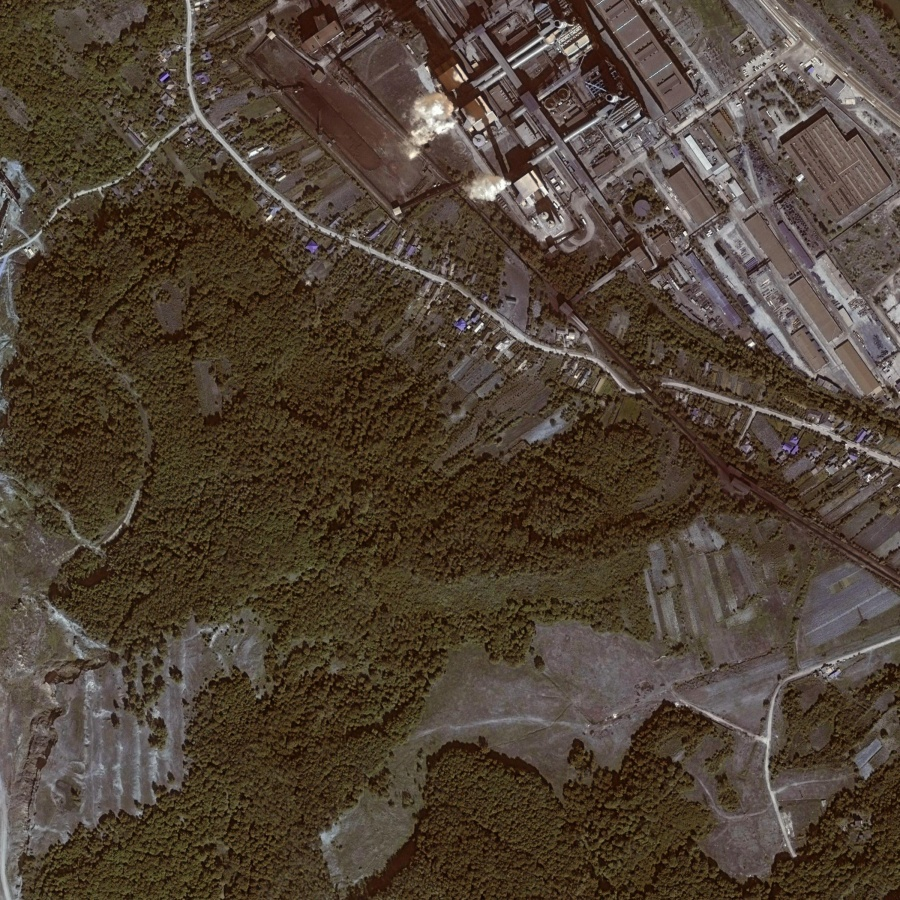PowerPlant: (294, 1, 509, 230)
